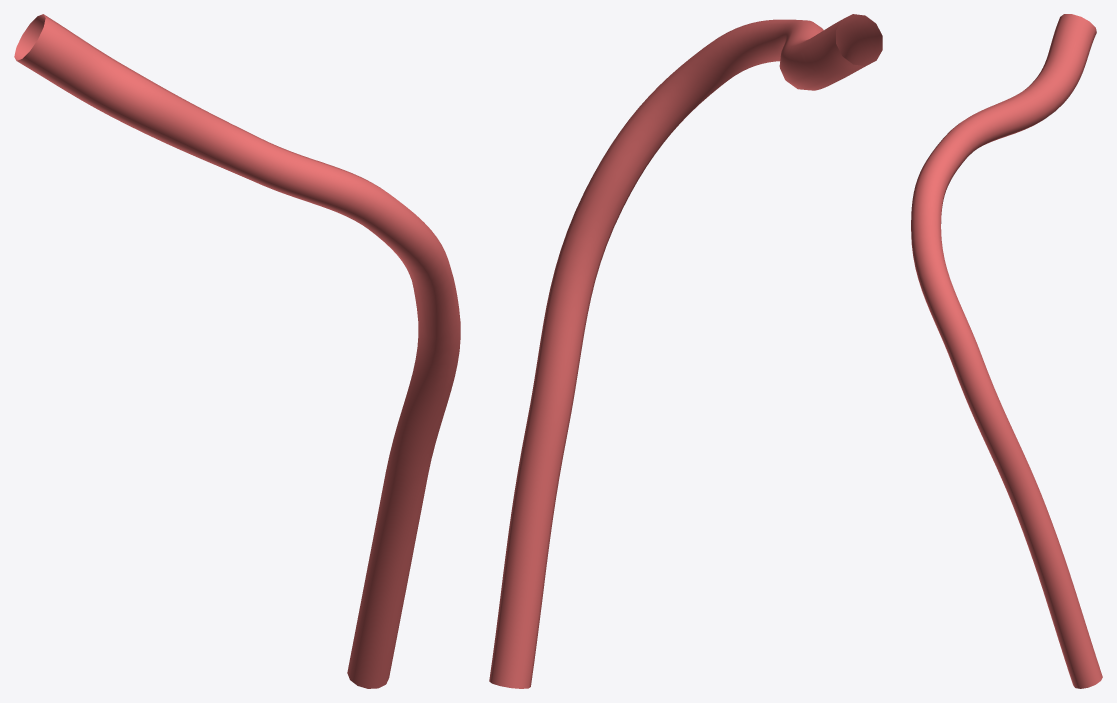
The model's file is Anterior_spinal_artery.r_BezierCurve.203.glb.
3 renders of one model, left to right at view 1: azimuth 30°, elevation 25°; view 2: azimuth 150°, elevation 25°; view 3: azimuth 270°, elevation 25°, orthographic. The views are drawn at different scales.
Parts seen in each view (by area): view 1: Anterior_spinal_artery.r_BezierCurve.203; view 2: Anterior_spinal_artery.r_BezierCurve.203; view 3: Anterior_spinal_artery.r_BezierCurve.203.
Boxes of the visible parts, x1,y1,x2,y2 form: Anterior_spinal_artery.r_BezierCurve.203: (14, 14, 460, 688); Anterior_spinal_artery.r_BezierCurve.203: (489, 14, 882, 688); Anterior_spinal_artery.r_BezierCurve.203: (911, 14, 1102, 688).
Size of the model in its own units: 0.0145 by 0.0274 by 0.00865.
